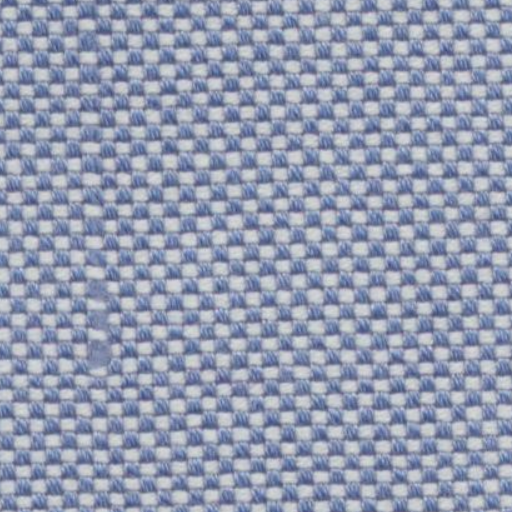TuoSha: (60, 18, 140, 402)
